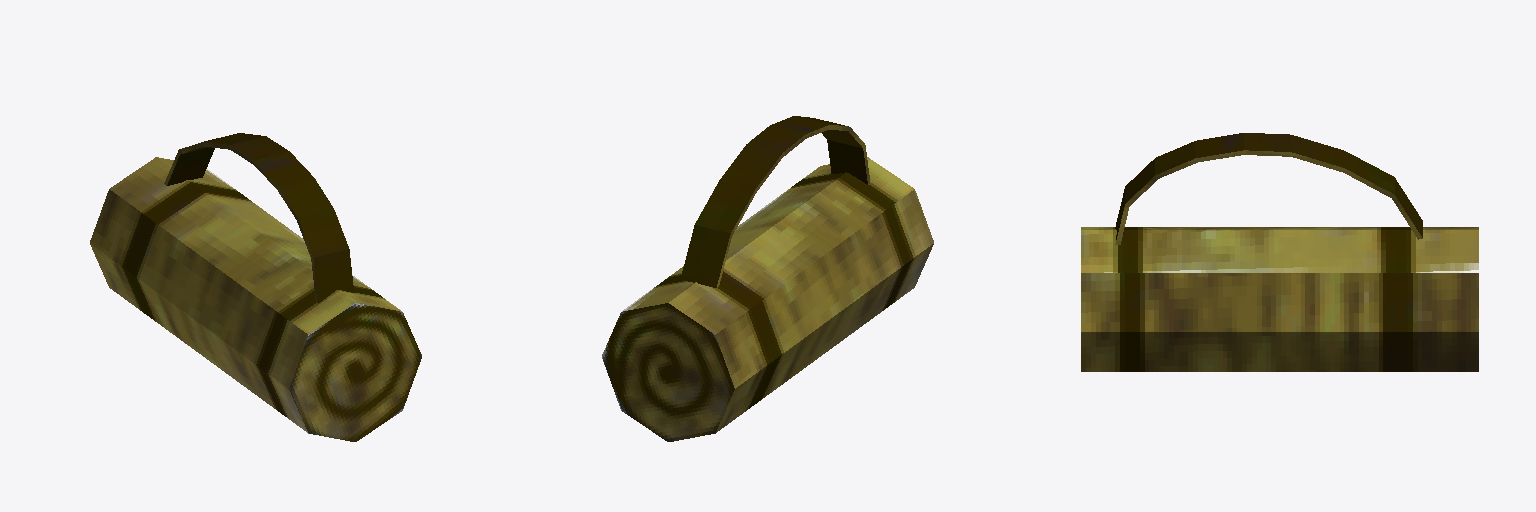
3 renders of one model, left to right at view 1: azimuth 30°, elevation 25°; view 2: azimuth 150°, elevation 25°; view 3: azimuth 270°, elevation 25°, orthographic.
Visible parts, largest first — view 1: Cylinder01; view 2: Cylinder01; view 3: Cylinder01.
Part boxes in pixels (x1,y1,x2,y2): Cylinder01: (90, 133, 421, 441); Cylinder01: (602, 116, 933, 441); Cylinder01: (1081, 133, 1478, 371).
Bounding box in the file's own units: 33.85 × 55.07 × 87.67.
Materials: 1 (1 with a texture image).